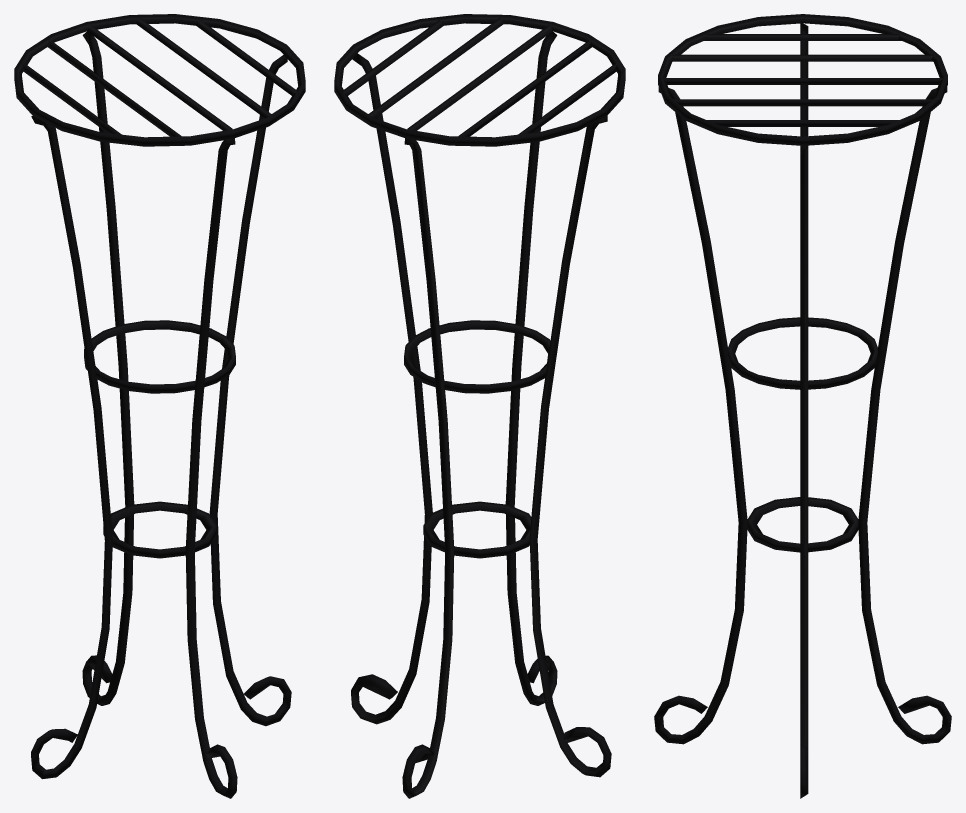
Rendered from Furniture_flowerstand_02_LOD1.fbx.
The picture shows the model from 3 angles, left to right: view 1: azimuth 30°, elevation 25°; view 2: azimuth 150°, elevation 25°; view 3: azimuth 270°, elevation 25°; orthographic projection.
Parts seen in each view (by area): view 1: Furniture_flowerstand_02; view 2: Furniture_flowerstand_02; view 3: Furniture_flowerstand_02.
Part boxes in pixels (bbox=[...]): Furniture_flowerstand_02: bbox=[14, 14, 305, 798]; Furniture_flowerstand_02: bbox=[334, 14, 625, 798]; Furniture_flowerstand_02: bbox=[654, 14, 951, 798].
Size of the model in its own units: 24.32 by 60.18 by 24.32.
